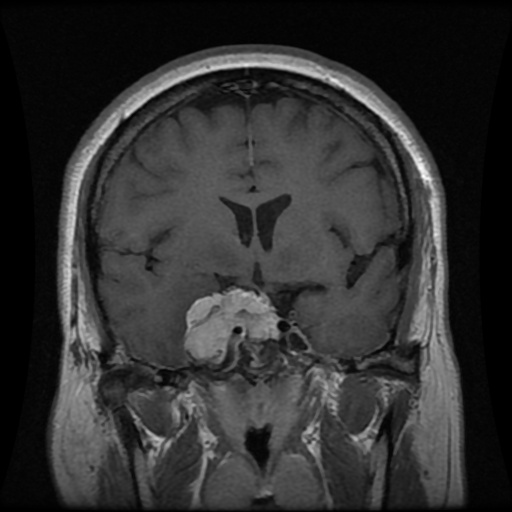meningioma: (184, 287, 280, 365)
